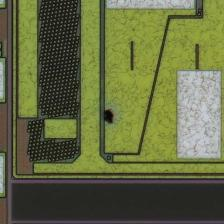PARTICLE: (100, 107, 120, 127)
